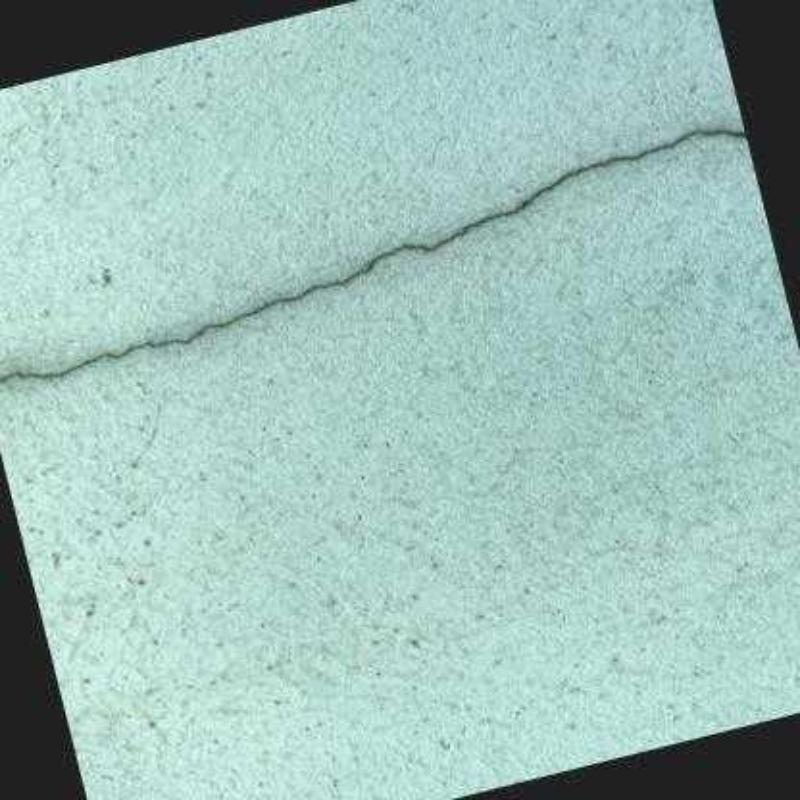pothole: (0, 125, 747, 381)
